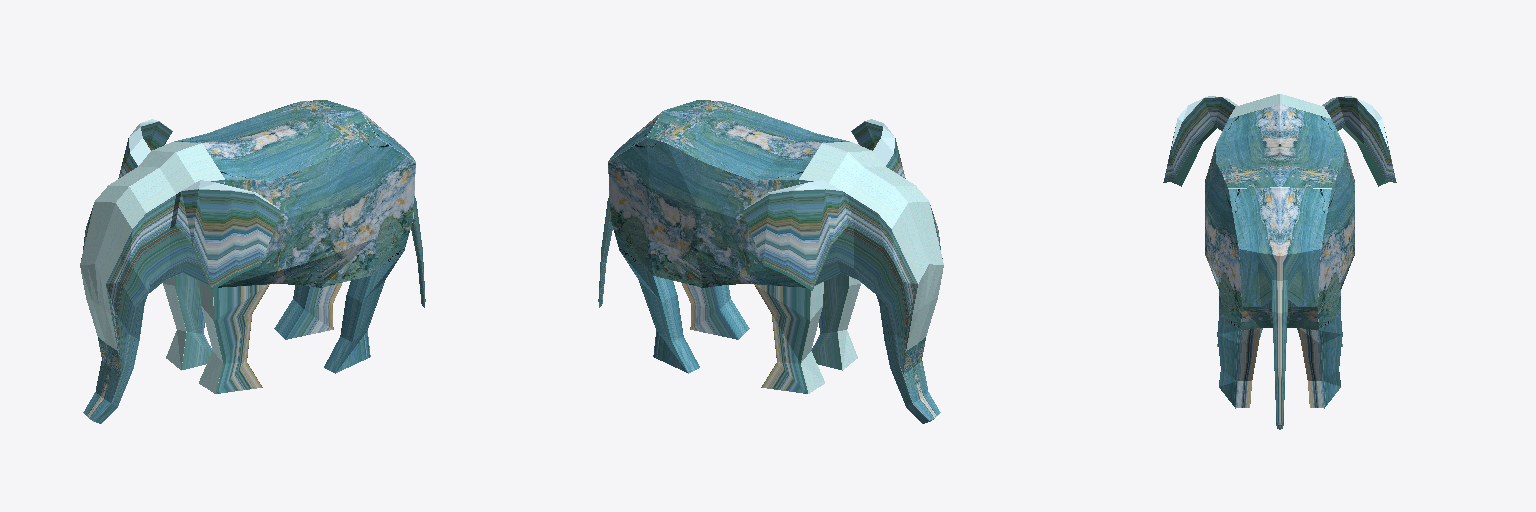
3 views of the same model, side by side, from view 1: azimuth 30°, elevation 25°; view 2: azimuth 150°, elevation 25°; view 3: azimuth 270°, elevation 25° (orthographic).
Parts seen in each view (by area): view 1: Box001; view 2: Box001; view 3: Box001.
Part boxes in pixels (bbox=[...]): Box001: bbox=[80, 100, 425, 423]; Box001: bbox=[598, 100, 943, 423]; Box001: bbox=[1163, 94, 1396, 429].
Size of the model in its own units: 130 by 92.98 by 77.95.
1 materials, 1 textured.